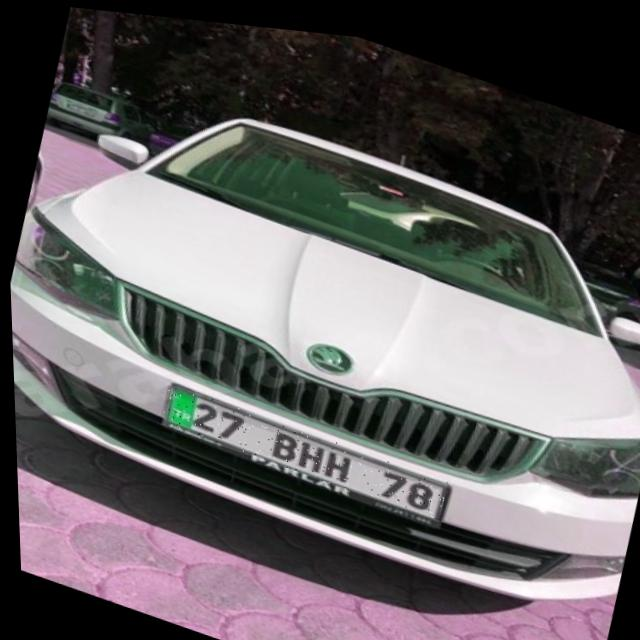license_plate: (156, 380, 445, 513)
